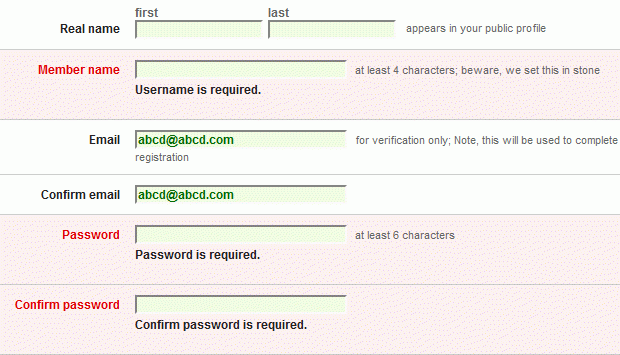error_message: (16, 297, 121, 312), (37, 63, 120, 77), (61, 227, 120, 241)
